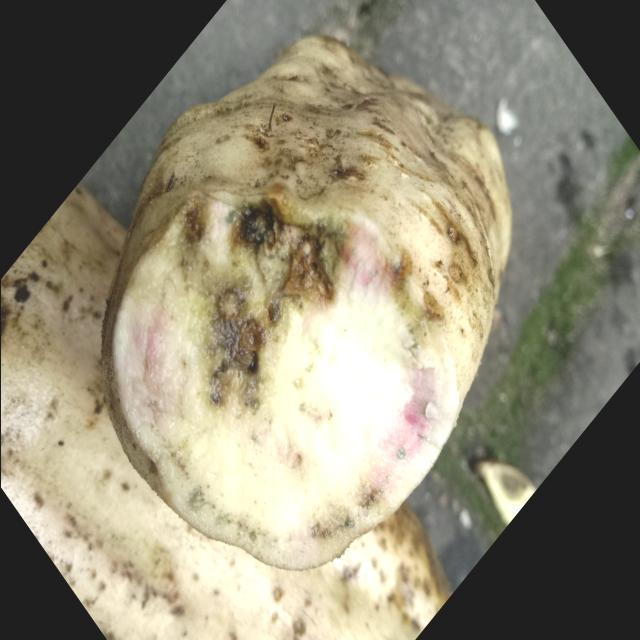Sick Sweet Potato_Tuber Rot: (102, 188, 459, 568)
